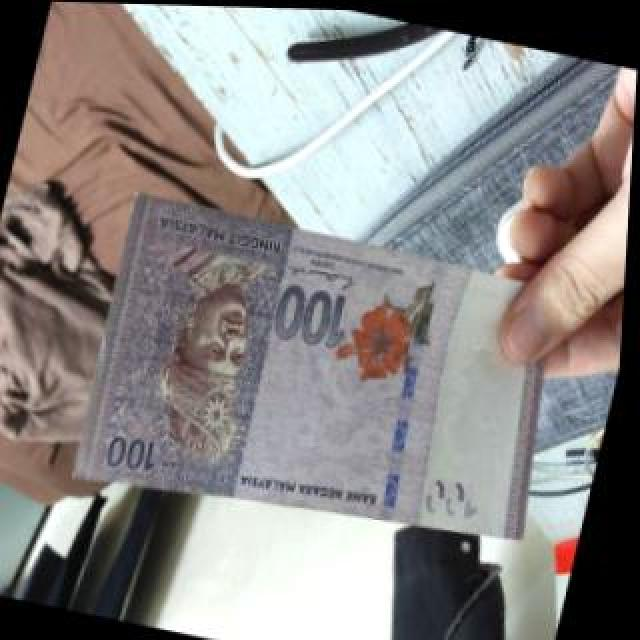100 Ringgit: (58, 188, 583, 568)
